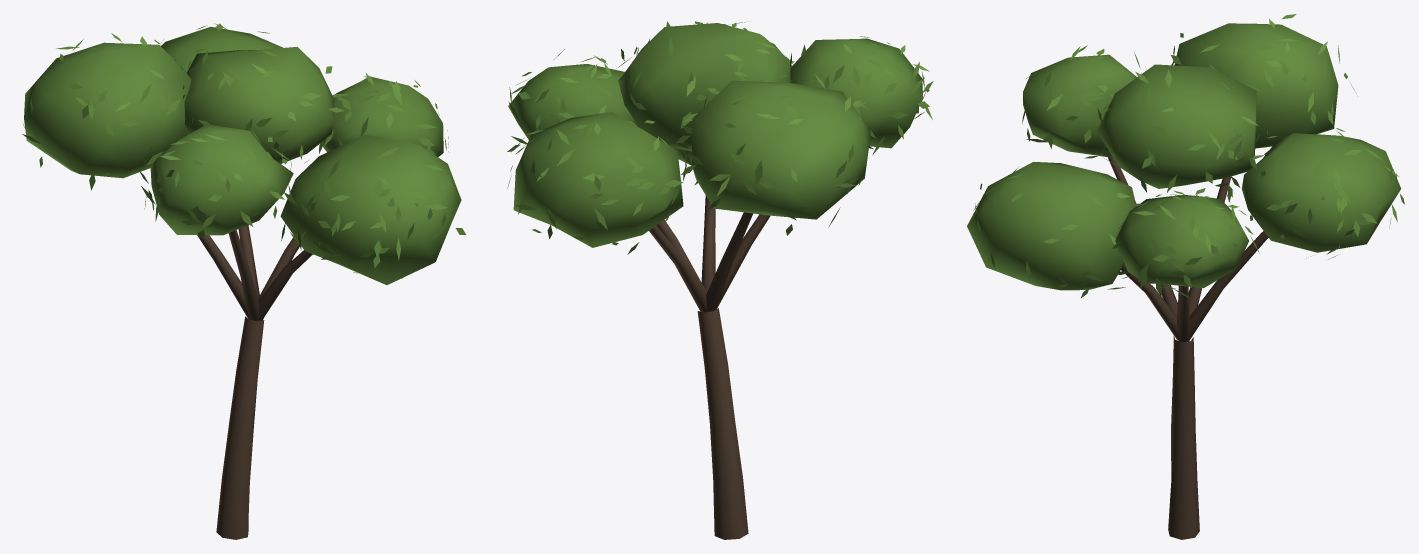
File: tr-neem.glb
3 views of the same model, side by side, from view 1: azimuth 30°, elevation 25°; view 2: azimuth 150°, elevation 25°; view 3: azimuth 270°, elevation 25° (orthographic). The views are drawn at different scales.
Parts seen in each view (by area): view 1: tr-neem; view 2: tr-neem; view 3: tr-neem.
Part boxes in pixels (x1,y1,x2,y2): tr-neem: [22, 23, 466, 539]; tr-neem: [507, 21, 933, 539]; tr-neem: [967, 14, 1404, 539].
Size of the model in its own units: 6.75 by 8.28 by 7.
